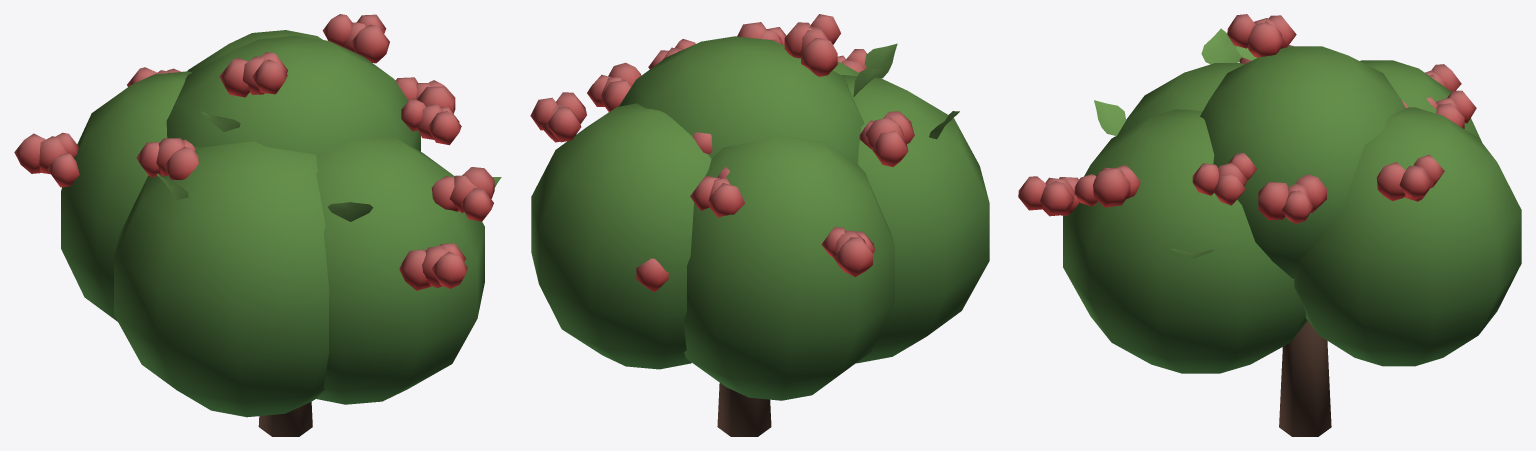
The model's file is ing_hawthorn_haw.glb.
The picture shows the model from 3 angles, left to right: view 1: azimuth 30°, elevation 25°; view 2: azimuth 150°, elevation 25°; view 3: azimuth 270°, elevation 25°; orthographic projection. The views are drawn at different scales.
Parts seen in each view (by area): view 1: ing_hawthorn_haw; view 2: ing_hawthorn_haw; view 3: ing_hawthorn_haw.
Boxes of the visible parts, x1=… form: ing_hawthorn_haw: x1=14, y1=14, x2=501, y2=436; ing_hawthorn_haw: x1=530, y1=14, x2=989, y2=436; ing_hawthorn_haw: x1=1018, y1=14, x2=1521, y2=436.
Size of what is drawn, in the model's own units: 0.5657 by 0.6075 by 0.713.
